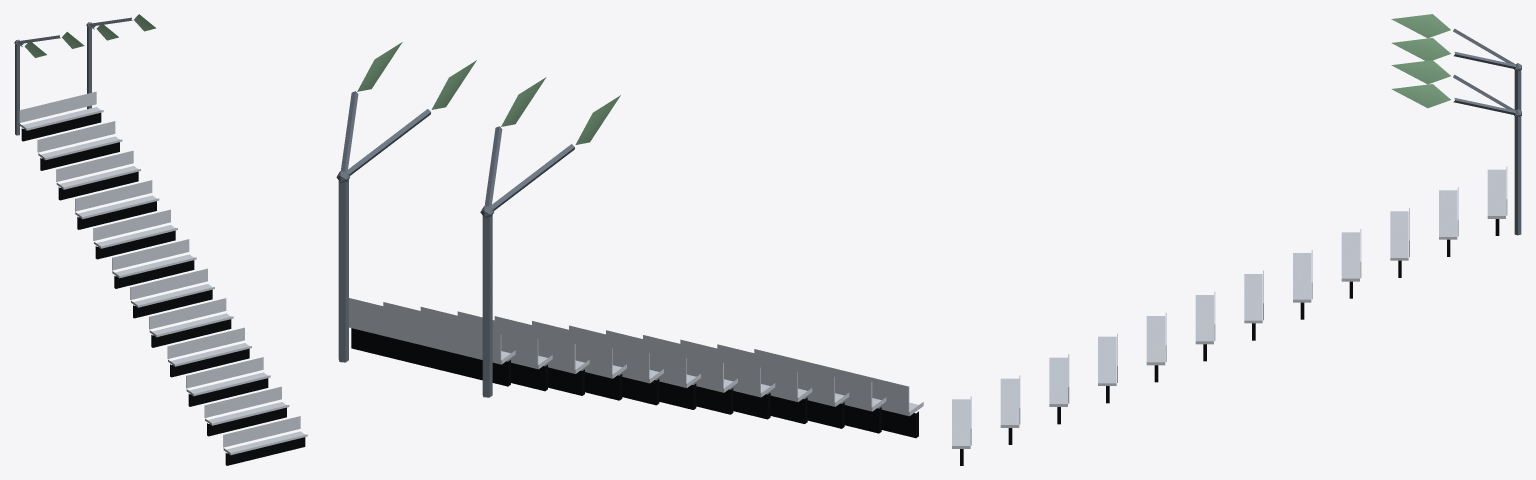
Rendered from tt_stand_module_f3_3p8_seats.glb.
3 views of the same model, side by side, from view 1: azimuth 30°, elevation 25°; view 2: azimuth 150°, elevation 25°; view 3: azimuth 270°, elevation 25° (orthographic). The views are drawn at different scales.
Parts seen in each view (by area): view 1: Seat_Backs, Seat_Beams, Seat_Pans, Canopy_Steel, Canopy_Leaves; view 2: Seat_Backs, Seat_Beams, Canopy_Steel, Seat_Pans, Canopy_Leaves; view 3: Seat_Pans, Canopy_Leaves, Canopy_Steel, Seat_Backs, Seat_Beams.
Part boxes in pixels (x1,y1,x2,y2): Seat_Backs: [19, 91, 300, 447]; Seat_Beams: [21, 113, 305, 465]; Seat_Pans: [19, 107, 307, 454]; Canopy_Steel: [14, 17, 132, 135]; Canopy_Leaves: [24, 14, 155, 57]; Seat_Backs: [349, 298, 909, 411]; Seat_Beams: [351, 328, 918, 438]; Canopy_Steel: [336, 91, 574, 397]; Seat_Pans: [349, 323, 923, 416]; Canopy_Leaves: [357, 42, 620, 144]; Seat_Pans: [952, 169, 1505, 448]; Canopy_Leaves: [1391, 14, 1450, 108]; Canopy_Steel: [1453, 28, 1521, 235]; Seat_Backs: [970, 166, 1507, 445]; Seat_Beams: [960, 219, 1499, 465].
Size of what is drawn, in the model's own units: 3.33 by 8.41 by 11.12.
4 materials, 3 textured.
